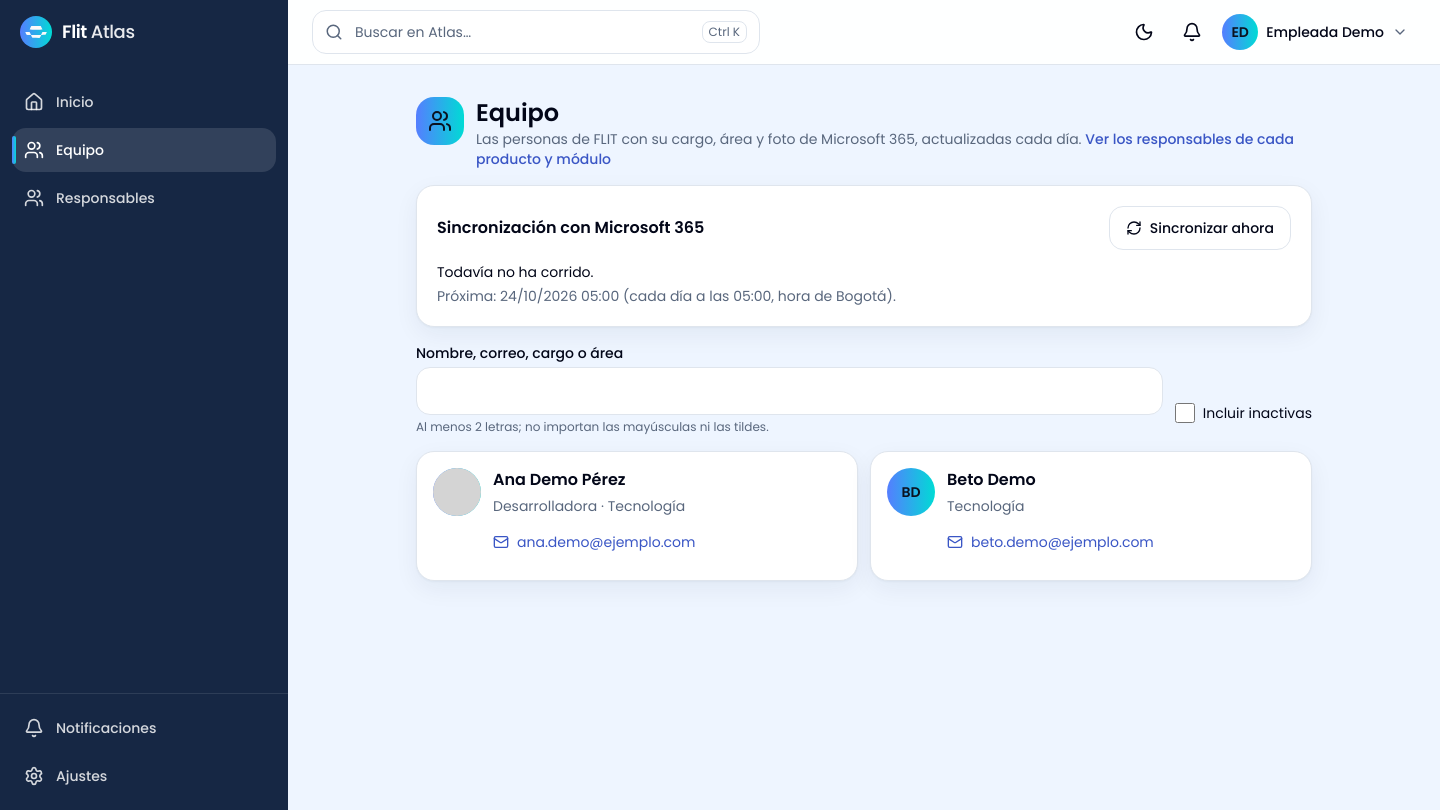
Test: equipo: directorio interno (HU 2.2) › el superadmin pide «Sincronizar ahora» y ve el resultado de la corrida
The image size is (1440, 810).
Expected: the text "Todavía no ha corrido." is shown, [437, 262, 594, 282]
Expected: the text "cada día a las 05:00, hora de Bogotá" is shown, [437, 286, 896, 306]
Step 1. Click the button "Sincronizar ahora" → (1200, 228), box [1109, 206, 1291, 250]
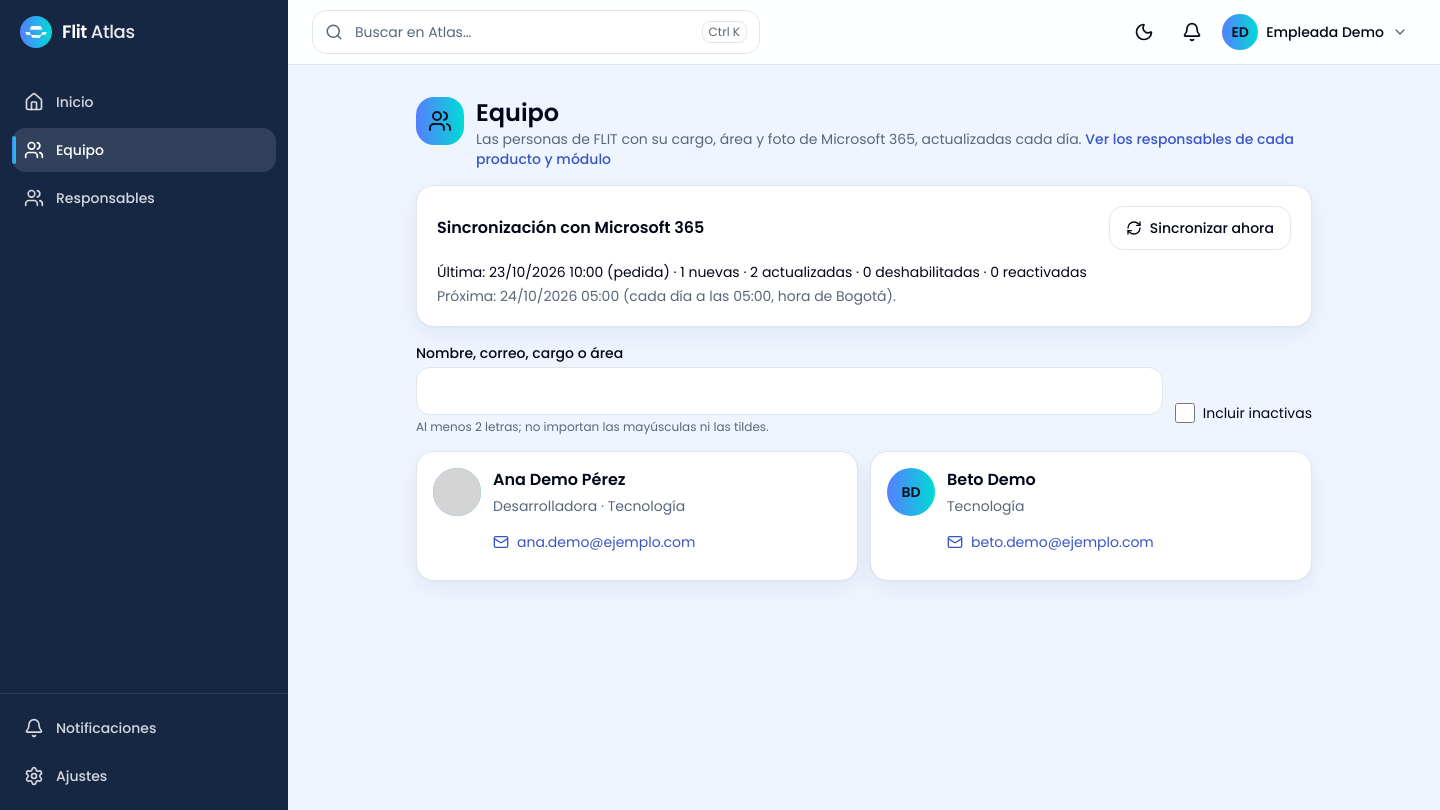
Result: the text "1 nuevas · 2 actualizadas · 0 deshabilitadas · 0 reactivadas" is shown at [680, 262, 1087, 282]
